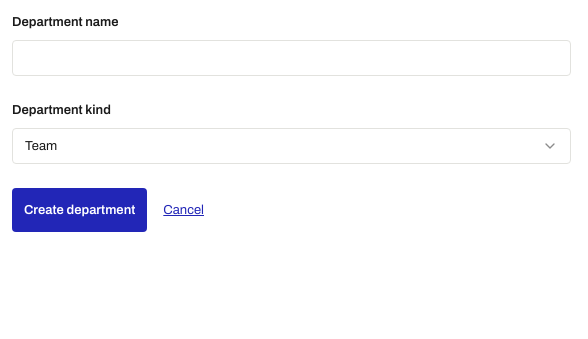
Test case: DepartmentForm › keeps the entered name and restores controls after a transport failure
Type "Example department" into the field labelled "Department name". click: (291, 58)
box: [12, 40, 571, 76]
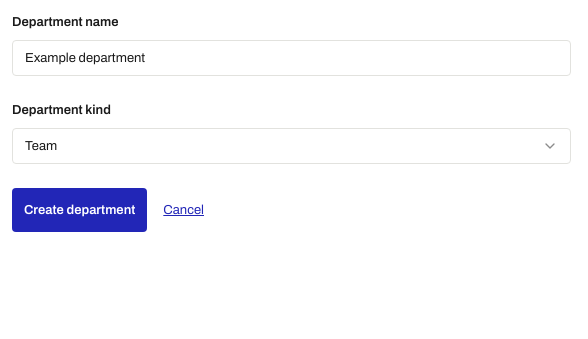
Click the button "Create department". click: (80, 210)
box: [12, 188, 147, 232]
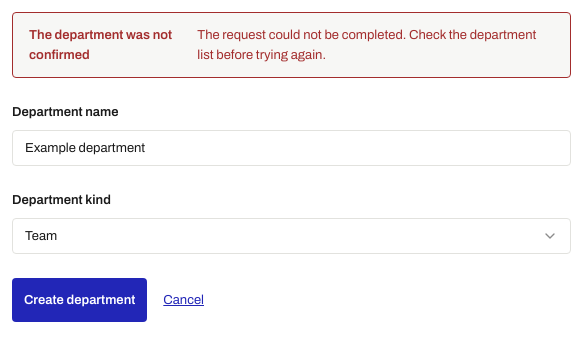
Expected: the button "Create department" is enabled, [12, 278, 147, 322]
Expected: the text "Check the department list before trying again" is shown, [197, 28, 536, 62]
